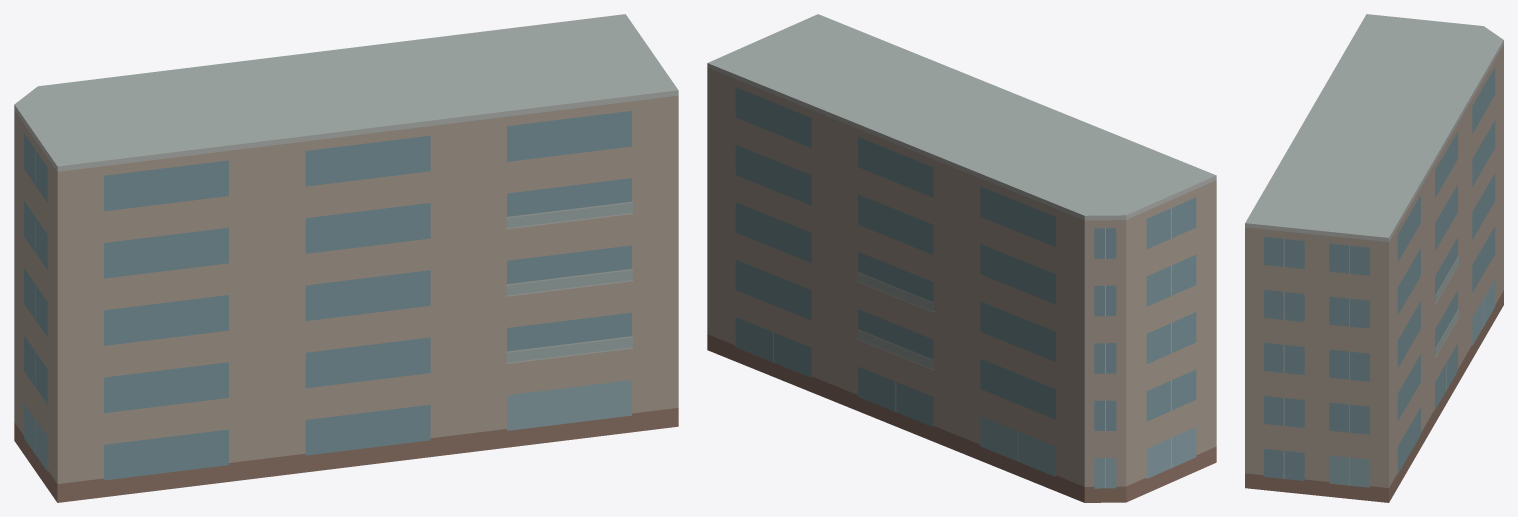
File: survey-upis-32871871.glb
3 renders of one model, left to right at view 1: azimuth 30°, elevation 25°; view 2: azimuth 150°, elevation 25°; view 3: azimuth 270°, elevation 25°, orthographic. The views are drawn at different scales.
Visible parts, largest first — view 1: survey-upis-32871871.tmp; view 2: survey-upis-32871871.tmp; view 3: survey-upis-32871871.tmp.
Part boxes in pixels (x1,y1,x2,y2): survey-upis-32871871.tmp: (14,14,678,502); survey-upis-32871871.tmp: (707,14,1216,502); survey-upis-32871871.tmp: (1245,14,1503,502).
Bounding box in the file's own units: 27.64 × 15.25 × 13.51.
